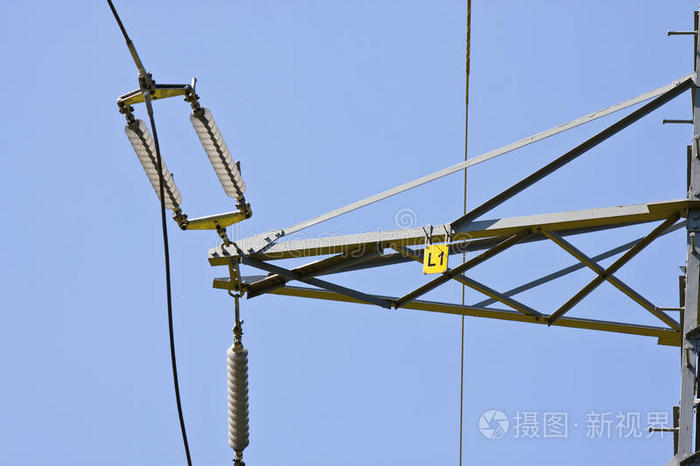insulator: (126, 121, 181, 211), (193, 108, 244, 196), (225, 344, 249, 451)
